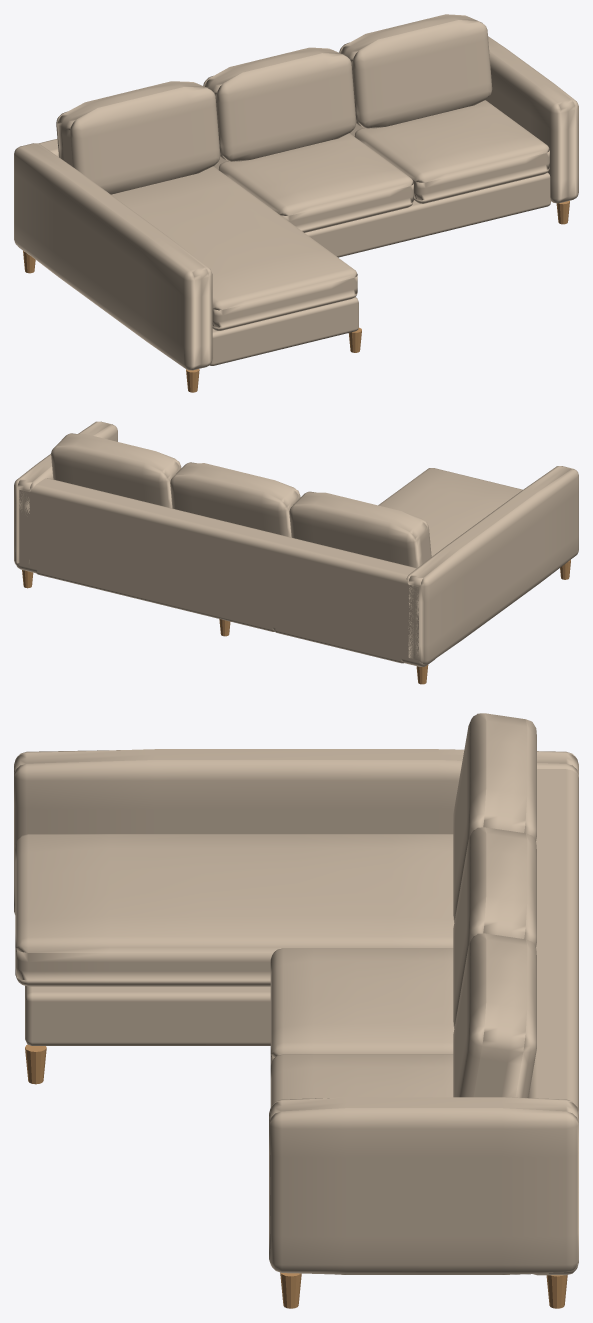
File: sofa_l_left.glb
3 views of the same model, one above another, from view 1: azimuth 30°, elevation 25°; view 2: azimuth 150°, elevation 25°; view 3: azimuth 270°, elevation 25° (orthographic). The views are drawn at different scales.
Parts seen in each view (by area): view 1: sofa_l_left; view 2: sofa_l_left; view 3: sofa_l_left.
Boxes of the visible parts, <box> form: sofa_l_left: <box>14,14,578,392</box>; sofa_l_left: <box>14,421,578,684</box>; sofa_l_left: <box>14,713,578,1308</box>.
Bounding box in the file's own units: 2.4 × 0.82 × 1.55.
